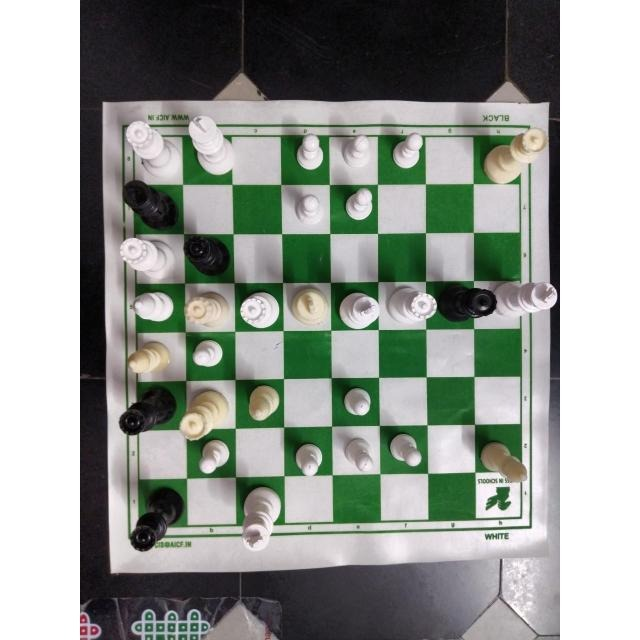black-king: (120, 178, 181, 230)
black-queen: (128, 484, 189, 552), (432, 280, 499, 332), (117, 386, 181, 435), (180, 233, 232, 278)
white-bishop: (477, 436, 533, 492), (124, 339, 176, 378), (129, 289, 177, 329), (244, 385, 282, 427)
white-king: (184, 112, 240, 176), (494, 274, 558, 330), (238, 482, 285, 554), (335, 285, 382, 333), (288, 284, 329, 330)
white-pawn: (290, 433, 330, 478), (385, 428, 427, 469), (340, 430, 377, 474), (390, 129, 424, 173), (189, 333, 228, 371), (291, 132, 324, 176), (290, 191, 327, 229), (339, 384, 375, 422), (193, 437, 229, 475), (340, 131, 372, 170), (343, 185, 375, 223)
white-queen: (482, 126, 550, 184), (120, 119, 183, 177), (113, 234, 180, 283), (177, 388, 233, 437), (384, 282, 440, 329), (182, 286, 229, 328), (235, 291, 281, 331)
